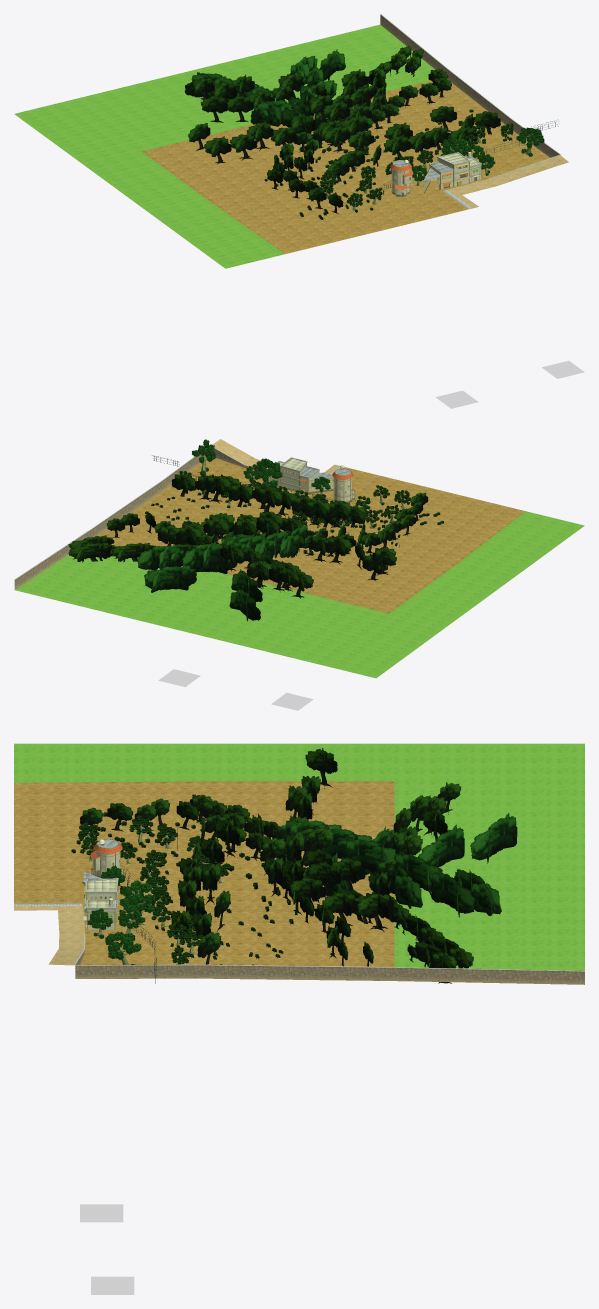
3 views of the same model, one above another, from view 1: azimuth 30°, elevation 25°; view 2: azimuth 150°, elevation 25°; view 3: azimuth 270°, elevation 25° (orthographic). The views are drawn at different scales.
Parts seen in each view (by area): view 1: sa00aflo00_001, sa00aflo01_001, ki006_01_001, ki006_11_001, sa00aobj02_001, ha005_08_001, Quad_a, ha003_03_001; view 2: sa00aflo01_001, sa00aflo00_001, ki006_01_001, ki006_11_001, sa00aobj02_001, ha005_08_001, Quad_a, ha003_03_001, Tree_Leaves_Type_05_013, ki004_18_001; view 3: sa00aflo00_001, sa00aflo01_001, ki006_01_001, ki006_11_001, ha005_08_001, sa00aobj02_001, Quad_a, ha003_03_001, Tree_Leaves_Type_05_013, ki004_18_001.
Boxes of the visible parts, x1,y1,x2,y2 form: sa00aflo00_001: (142,14,568,253); sa00aflo01_001: (14,24,435,268); ki006_01_001: (188,45,500,213); ki006_11_001: (184,49,353,139); sa00aobj02_001: (390,152,481,197); ha005_08_001: (318,123,513,206); Quad_a: (435,360,584,408); ha003_03_001: (264,109,512,219); sa00aflo01_001: (15,511,584,678); sa00aflo00_001: (14,439,525,613); ki006_01_001: (68,472,428,598); ki006_11_001: (137,524,312,621); sa00aobj02_001: (268,457,355,502); ha005_08_001: (179,471,411,526); Quad_a: (158,669,313,710); ha003_03_001: (145,491,443,557); Tree_Leaves_Type_05_013: (254,459,282,487); ki004_18_001: (183,448,406,532); sa00aflo00_001: (14,781,584,984); sa00aflo01_001: (14,743,584,970); ki006_01_001: (80,748,473,983); ki006_11_001: (277,813,517,917); ha005_08_001: (78,815,230,964); sa00aobj02_001: (82,839,122,929); Quad_a: (80,1204,134,1294); ha003_03_001: (71,812,308,965); Tree_Leaves_Type_05_013: (119,880,155,913); ki004_18_001: (84,825,223,964).
Size of the model in its own units: 238 by 152 by 225.
21 materials, 21 textured.
